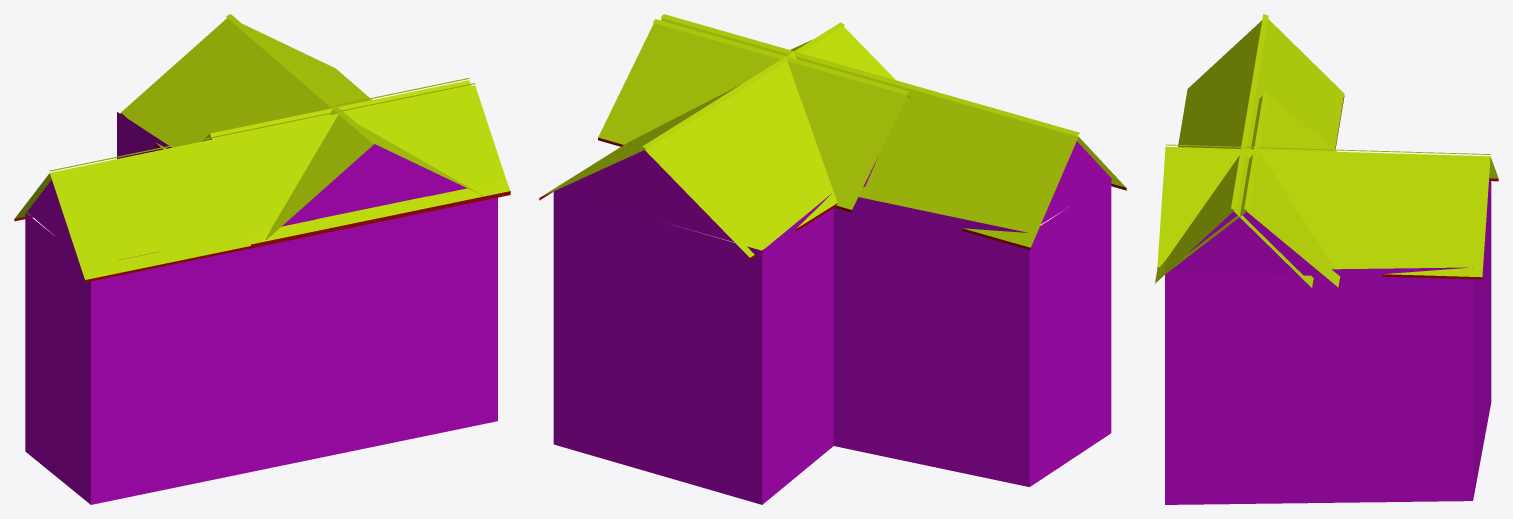
File: bgj_311.glb
The picture shows the model from 3 angles, left to right: view 1: azimuth 30°, elevation 25°; view 2: azimuth 150°, elevation 25°; view 3: azimuth 270°, elevation 25°; orthographic projection. The views are drawn at different scales.
Visible parts, largest first — view 1: bgj_311; view 2: bgj_311; view 3: bgj_311.
Part boxes in pixels (<box>): bgj_311: <box>14,14,510,504</box>; bgj_311: <box>539,14,1126,504</box>; bgj_311: <box>1155,14,1498,504</box>.
Bounding box in the file's own units: 20.79 × 14.63 × 15.08.
